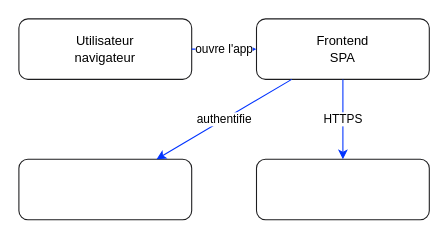
Image size: 448x239. Some labels were removed from this diagram. Here are the shapes that lost their labels. From the top down, the box of each, then its label:
(18, 158, 192, 220): IdP Keycloak · OIDC
(255, 158, 429, 220): BFF API façade
